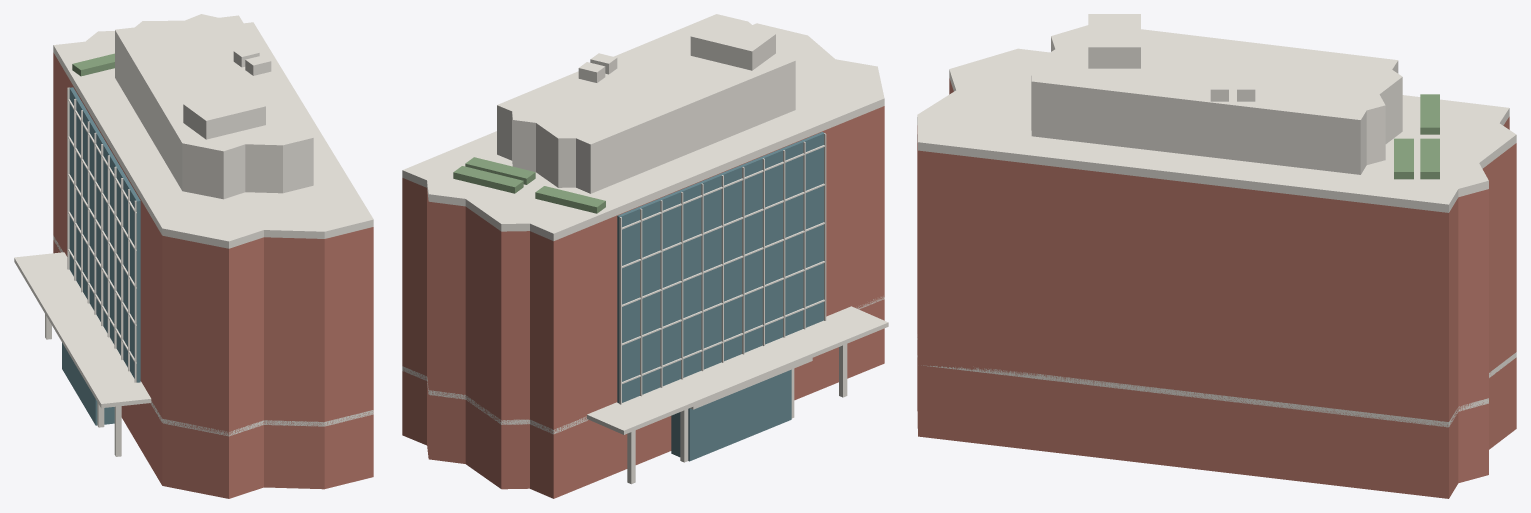
Rendered from yip.glb.
3 renders of one model, left to right at view 1: azimuth 30°, elevation 25°; view 2: azimuth 150°, elevation 25°; view 3: azimuth 270°, elevation 25°, orthographic. The views are drawn at different scales.
Visible parts, largest first — view 1: YKC_tower, YKC_roof_slab, YKC_podium, YKC_roof, YKC_curtain, YKC_penthouse, YKC_col_canopy, YKC_roof_plant, YKC_band, YKC_atrium, YKC_planter_0, YKC_cw_mull_10 (+10 smaller); view 2: YKC_tower, YKC_curtain, YKC_roof_slab, YKC_podium, YKC_roof, YKC_penthouse, YKC_col_canopy, YKC_atrium, YKC_roof_plant, YKC_band, YKC_planter_2, YKC_planter_0 (+17 smaller); view 3: YKC_tower, YKC_podium, YKC_roof_slab, YKC_roof, YKC_penthouse, YKC_band, YKC_roof_plant, YKC_planter_1, YKC_planter_2, YKC_planter_0.
Boxes of the visible parts, x1,y1,x2,y2 form: YKC_tower: (53,52,373,435); YKC_roof_slab: (53,22,373,248); YKC_podium: (53,240,373,498); YKC_roof: (115,14,313,156); YKC_curtain: (69,87,140,382); YKC_penthouse: (115,35,313,199); YKC_col_canopy: (14,252,151,408); YKC_roof_plant: (183,89,265,139); YKC_band: (53,235,373,436); YKC_atrium: (62,343,114,425); YKC_planter_0: (72,53,114,76); YKC_cw_mull_10: (134,200,136,382); YKC_tower: (402,106,884,434); YKC_curtain: (617,132,824,403); YKC_roof_slab: (402,23,884,241); YKC_podium: (402,299,884,498); YKC_roof: (497,14,795,149); YKC_penthouse: (497,66,795,193); YKC_col_canopy: (587,306,888,434); YKC_atrium: (671,369,791,461); YKC_roof_plant: (690,19,775,70); YKC_band: (402,296,884,434); YKC_planter_2: (453,166,523,193); YKC_planter_0: (535,186,605,213); YKC_tower: (917,78,1516,426); YKC_podium: (917,340,1516,498); YKC_roof_slab: (917,48,1516,212); YKC_roof: (1031,25,1402,125); YKC_penthouse: (1031,43,1402,174); YKC_band: (917,338,1516,427); YKC_roof_plant: (1088,14,1140,68); YKC_planter_1: (1394,138,1413,179); YKC_planter_2: (1420,138,1439,179); YKC_planter_0: (1420,94,1439,134).
Bounding box in the file's own units: 31.33 × 31.1 × 45.56.
